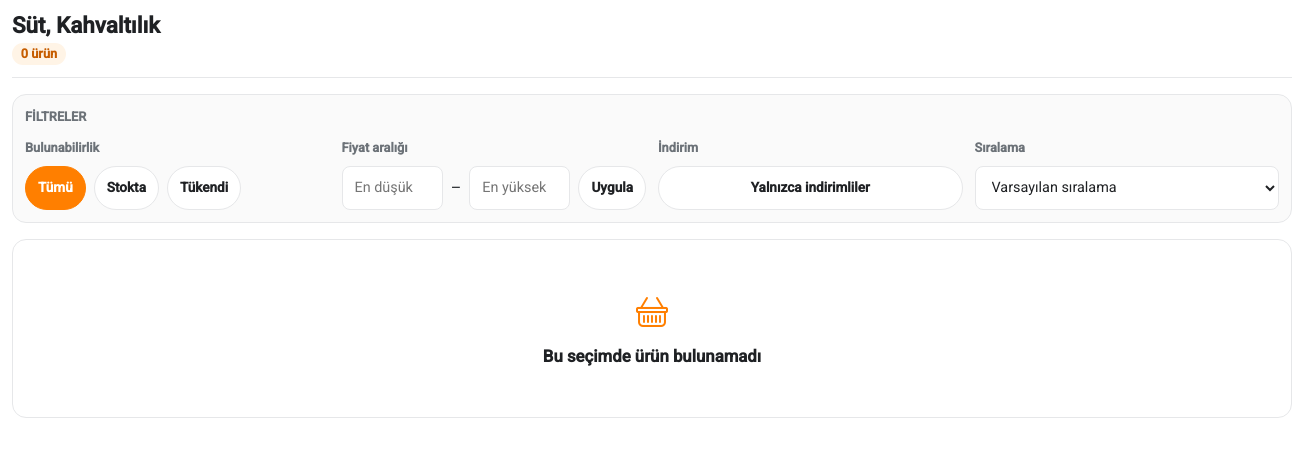
Test: ProductListingComponent › filter requests › refuses an inverted price pair instead of asking the endpoint for a 400
Type "90" into the field with class "listing__price-field" showing "En düşük" at (392, 188), box [342,166,443,210]
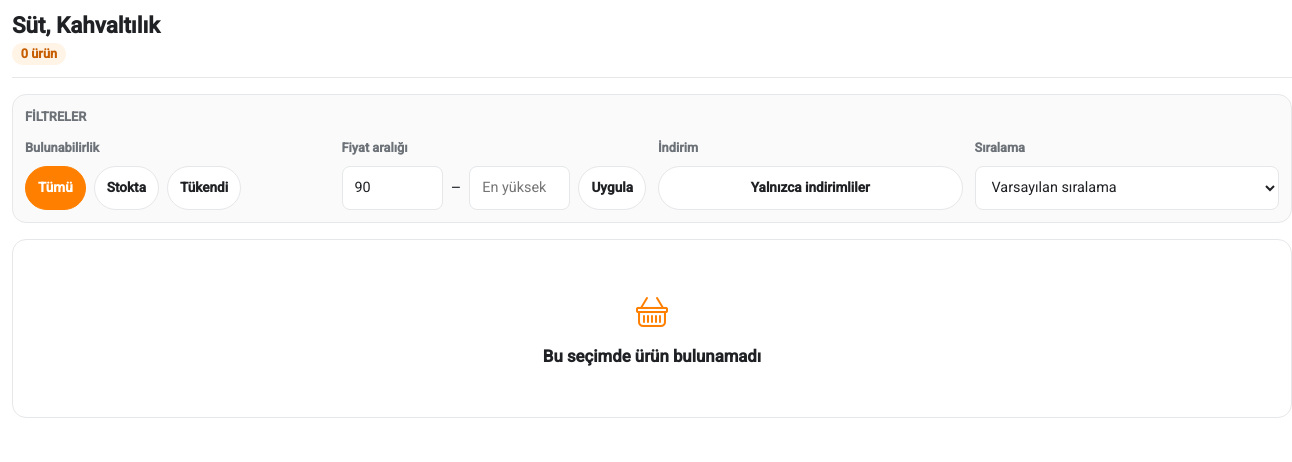
Type "10" into the field with class "listing__price-field" showing "En yüksek" at (520, 188), box [469,166,570,210]
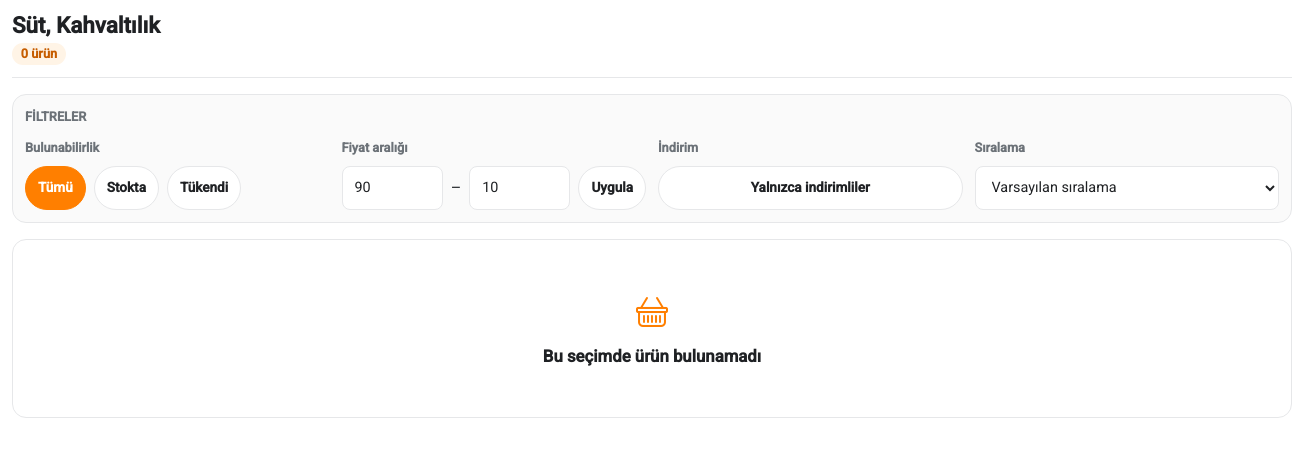
Click the button with class "listing__price-apply" at (612, 188), box [578,166,646,210]
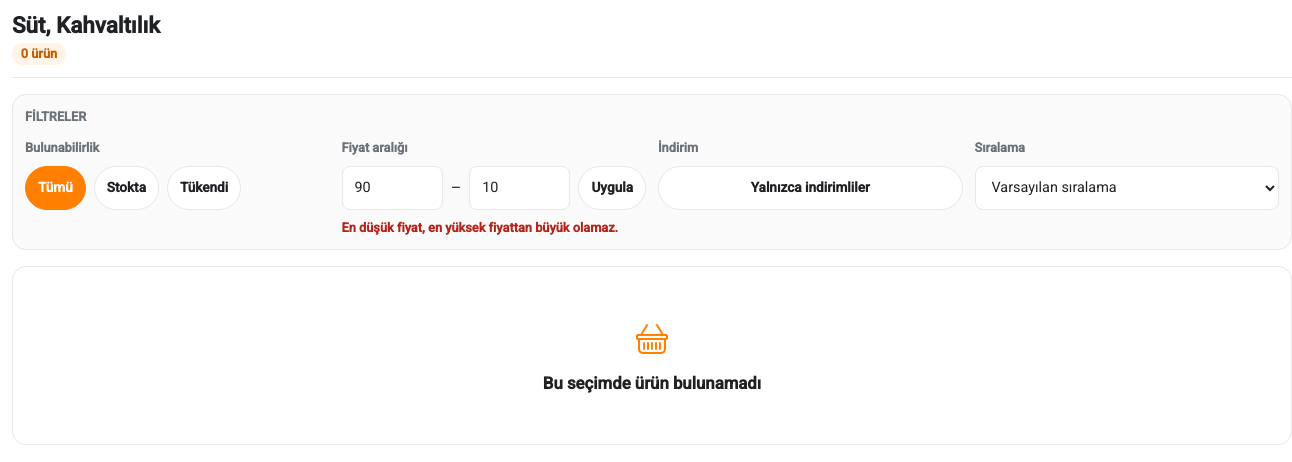
Expected: the message with class "listing__price-error" reads "En düşük fiyat, en yüksek fiyattan büyük olamaz.", [342,220,618,235]
